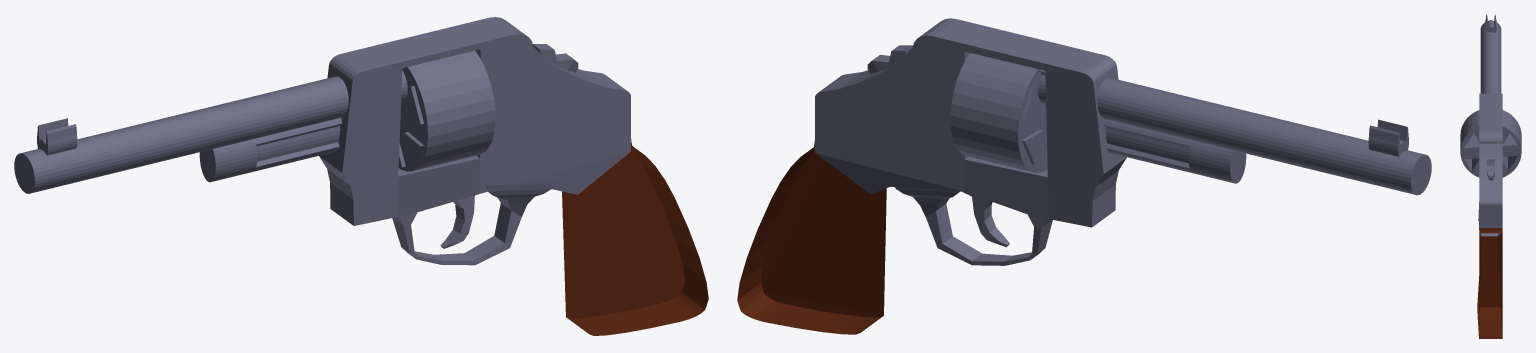
The model's file is revolver.glb.
3 views of the same model, side by side, from view 1: azimuth 30°, elevation 25°; view 2: azimuth 150°, elevation 25°; view 3: azimuth 270°, elevation 25° (orthographic). The views are drawn at different scales.
Visible parts, largest first — view 1: Chassis, Handle, Chamber, Trigger, Hammer; view 2: Chassis, Handle, Chamber, Trigger, Hammer; view 3: Chassis, Handle, Chamber, Hammer.
Part boxes in pixels (x1,y1,x2,y2): Chassis: [14, 17, 630, 265]; Handle: [562, 139, 708, 335]; Chamber: [398, 50, 495, 171]; Trigger: [440, 195, 474, 248]; Hammer: [532, 44, 578, 72]; Chassis: [815, 18, 1431, 265]; Handle: [737, 140, 886, 334]; Chamber: [950, 53, 1047, 172]; Trigger: [961, 191, 1009, 247]; Hammer: [867, 45, 913, 74]; Chassis: [1478, 14, 1502, 236]; Handle: [1477, 228, 1502, 338]; Chamber: [1460, 110, 1521, 177]; Hammer: [1487, 154, 1494, 180].
Size of the model in its own units: 9.68 by 4.64 by 1.53.
